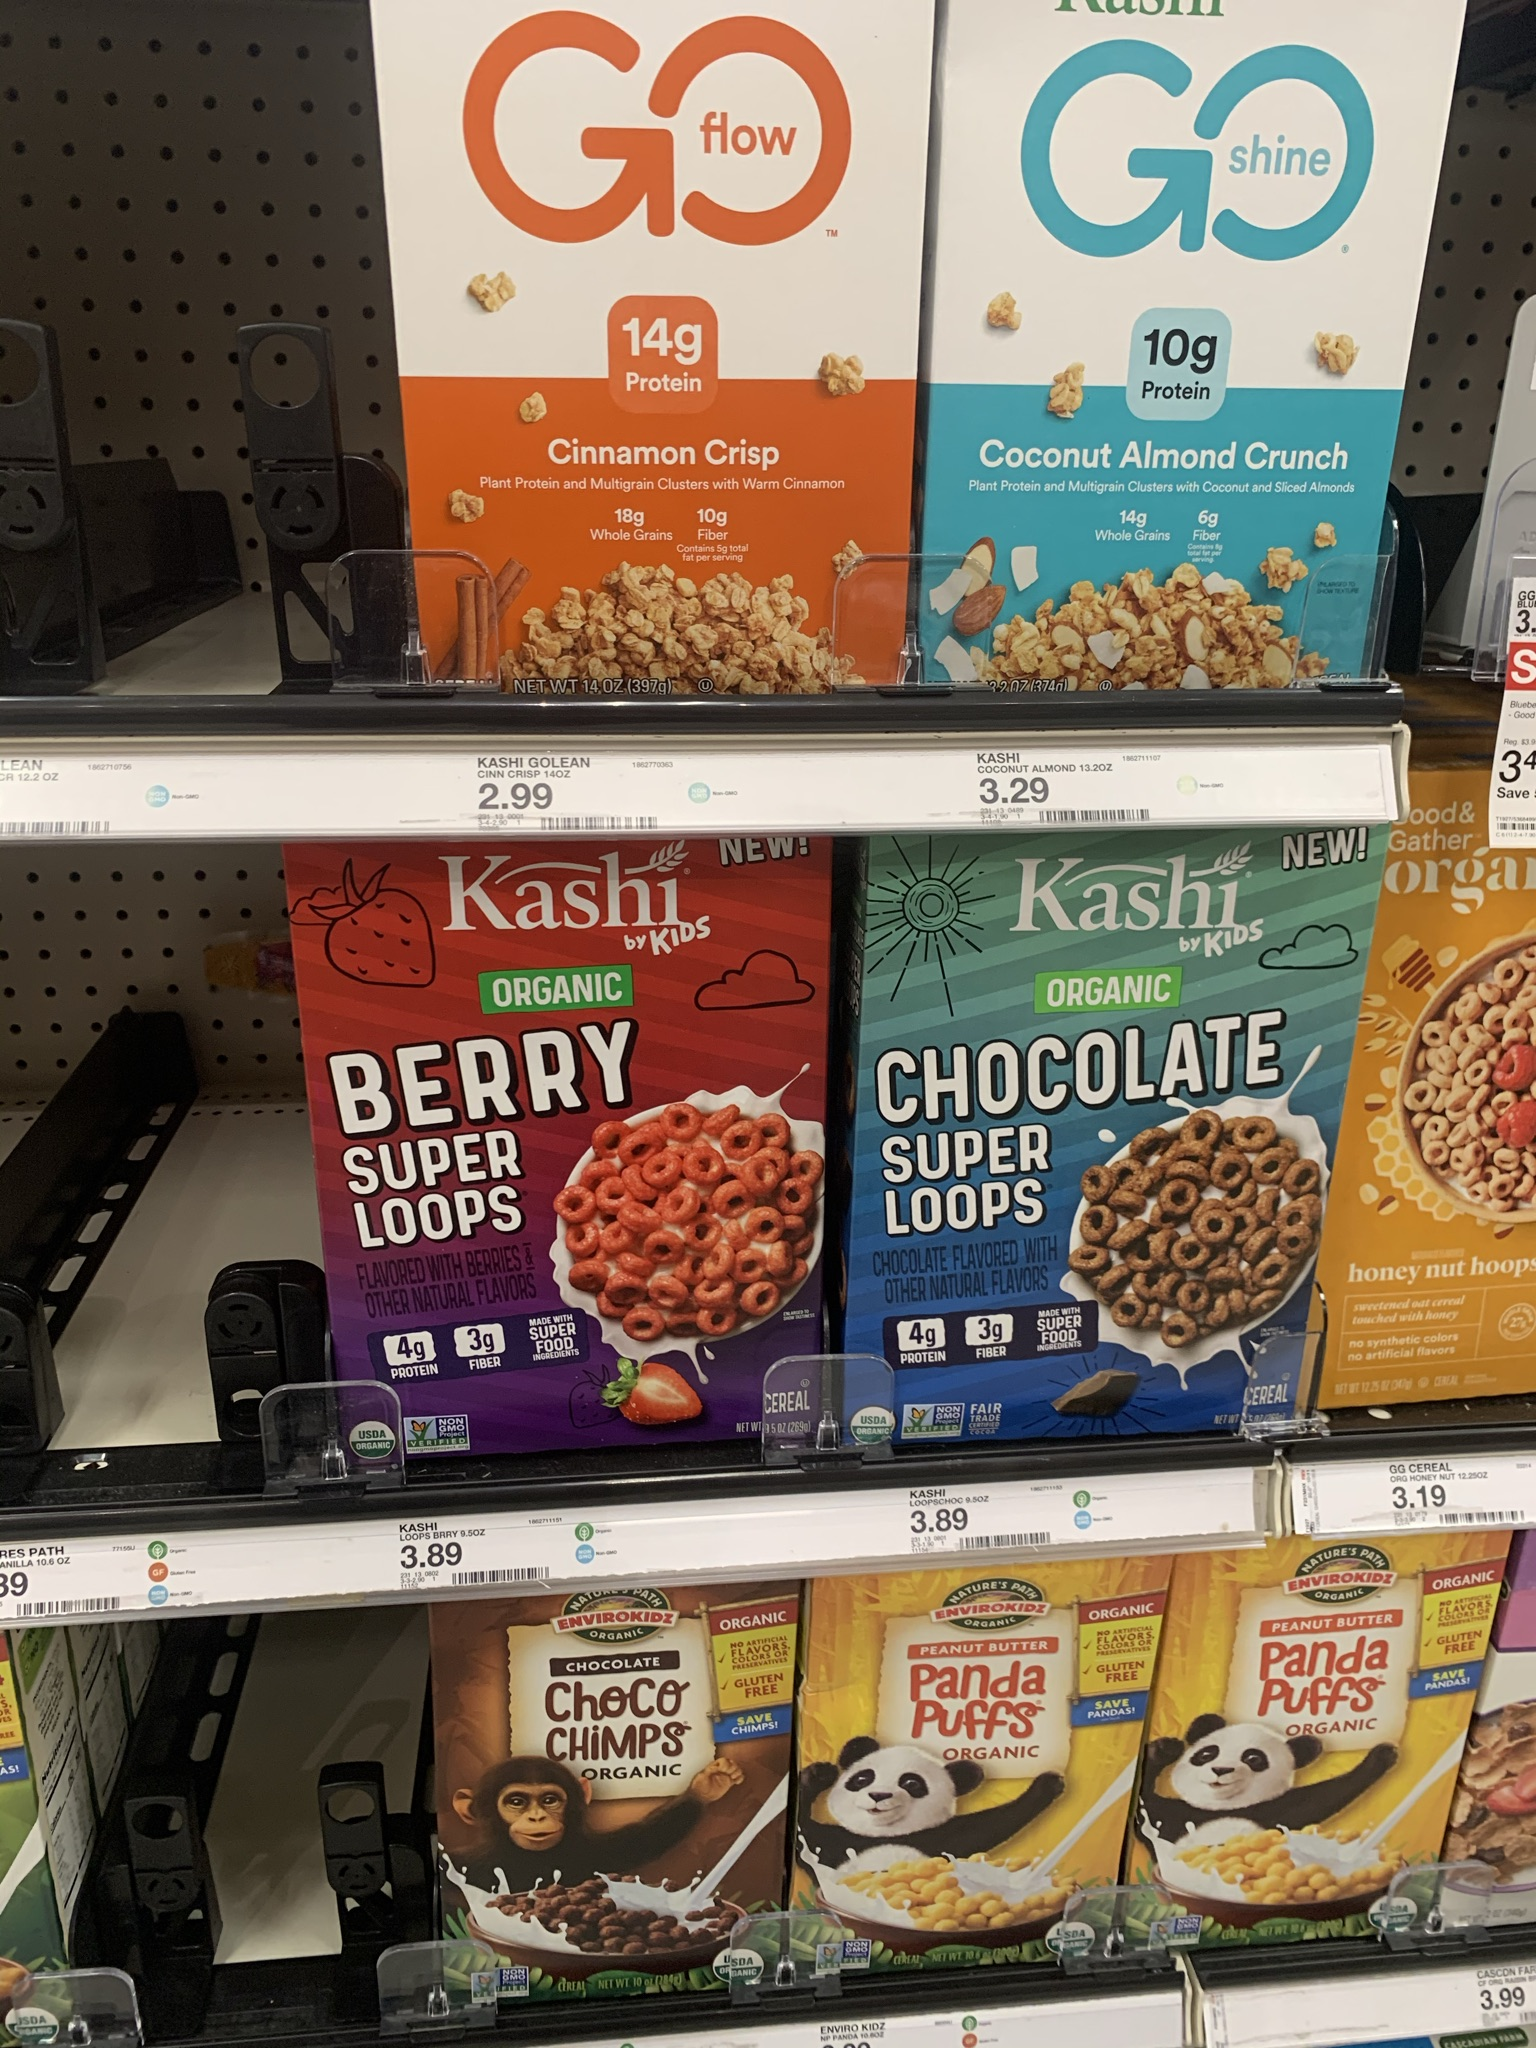Cereal choco chimps: (484, 1605, 852, 1979)
Cereal go: (389, 15, 933, 676), (954, 15, 1383, 656)
Cereal kashi: (298, 861, 844, 1434), (883, 835, 1329, 1371)
Cereal panda ouffs: (858, 1587, 1149, 1980), (1197, 1550, 1459, 1971)
